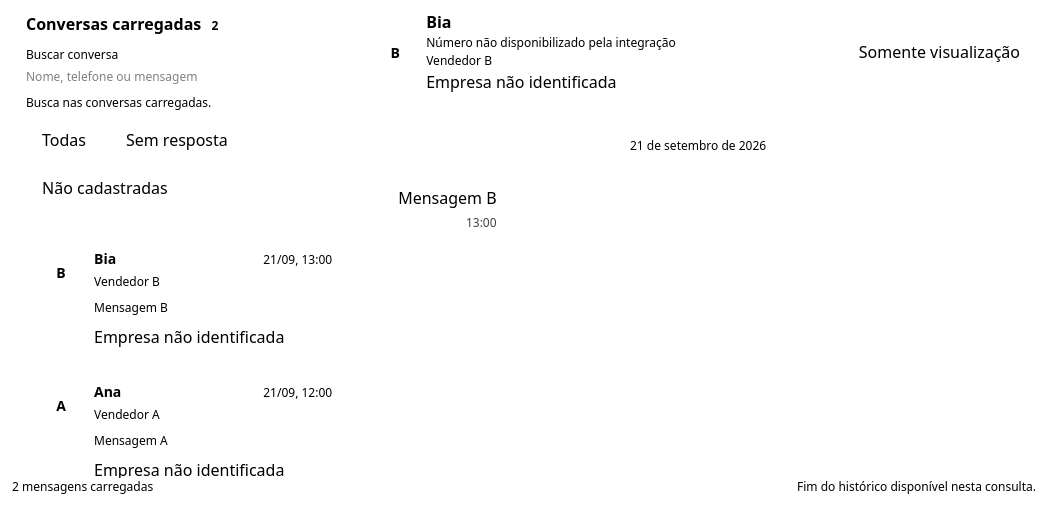
it: remover outra fonte na atualização preserva seleção e histórico da fonte restante
Click the button that starts with "Ana" at (298, 392), box [24, 365, 348, 498]
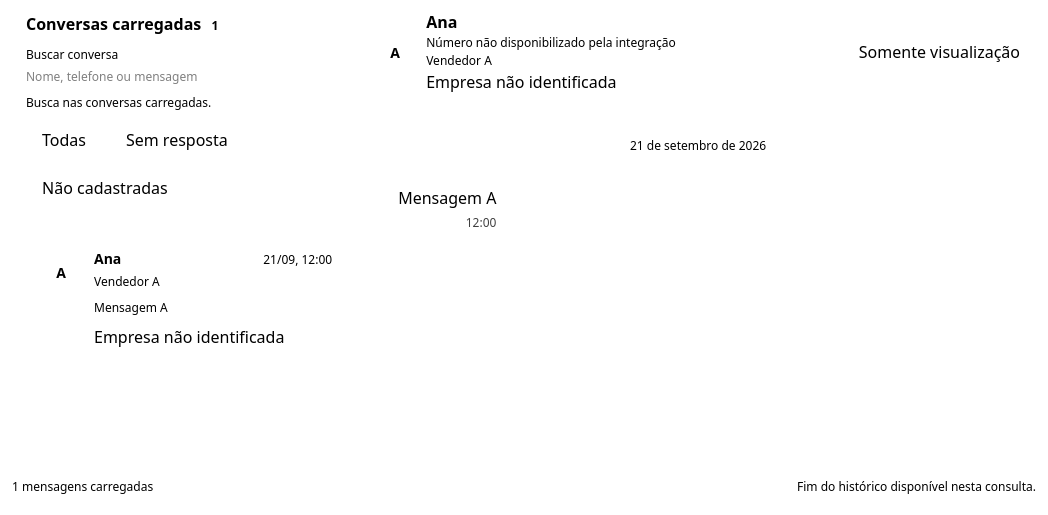
Expected: the text "Mensagem A" is shown, [94, 299, 168, 316]
Now the text "Vendedor B" is gone
